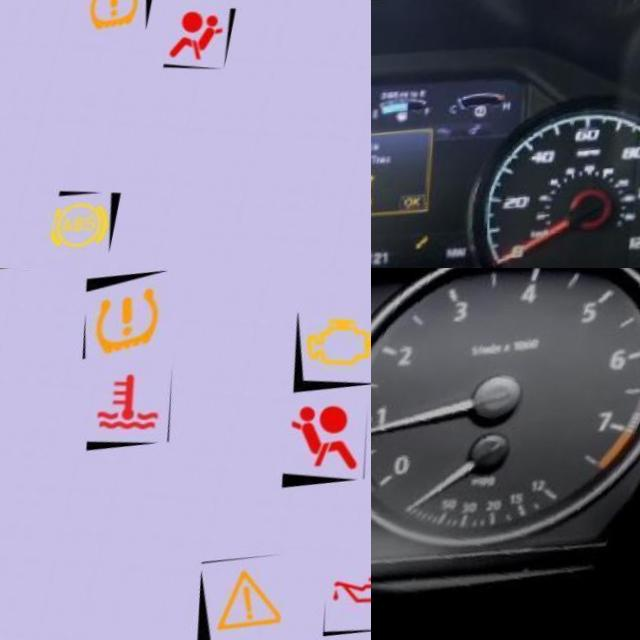Low fuel level: (409, 106, 420, 117)
